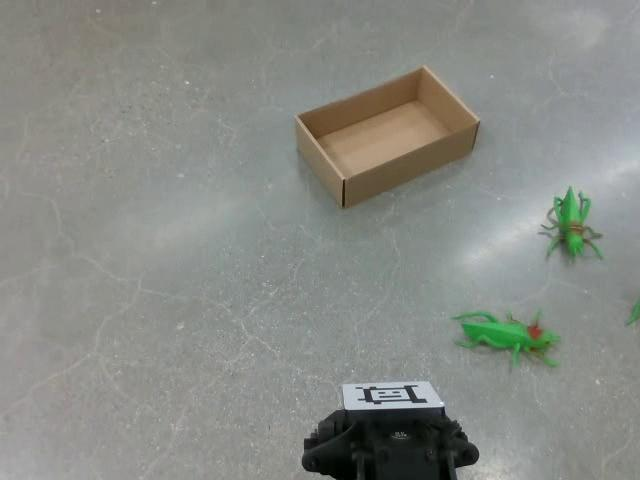box: (294, 63, 480, 209)
grasshopper: (451, 308, 561, 372), (537, 184, 604, 264)
